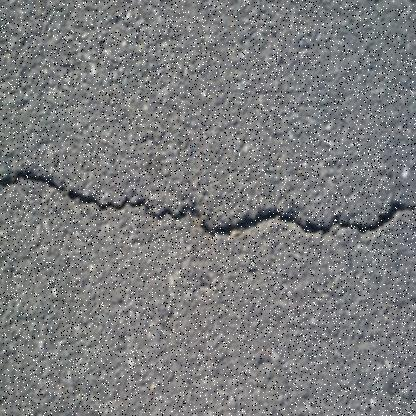Cracks: (0, 157, 415, 251)
